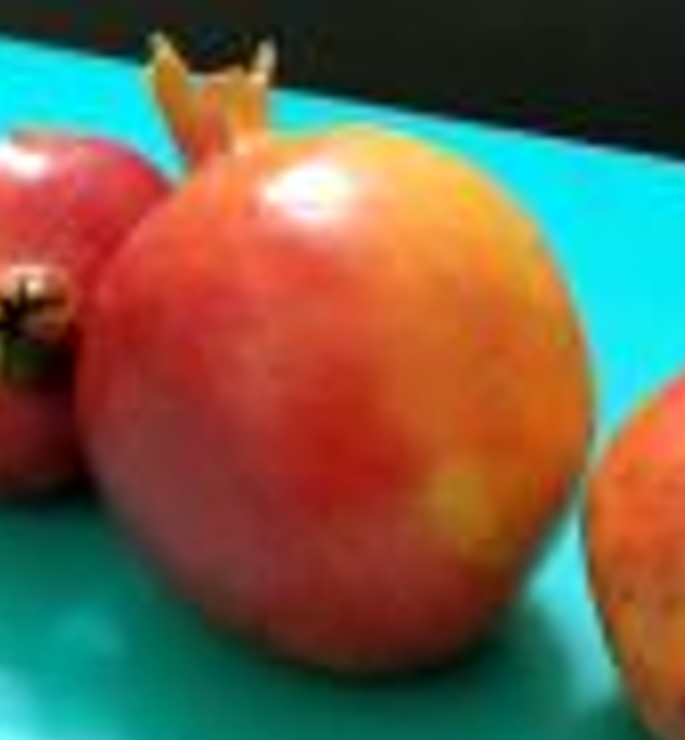pomegranate_A: (70, 30, 597, 673)
